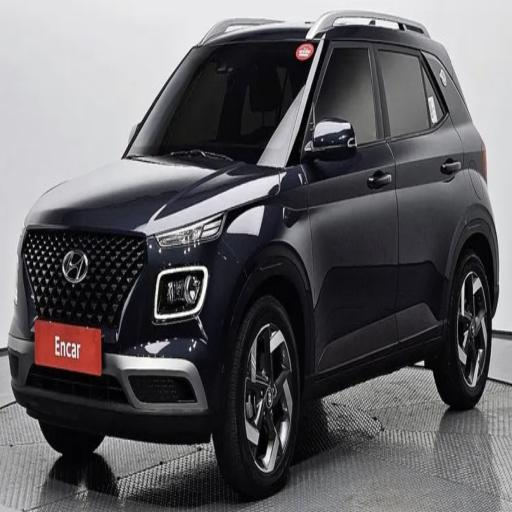normal: (12, 9, 500, 496)
